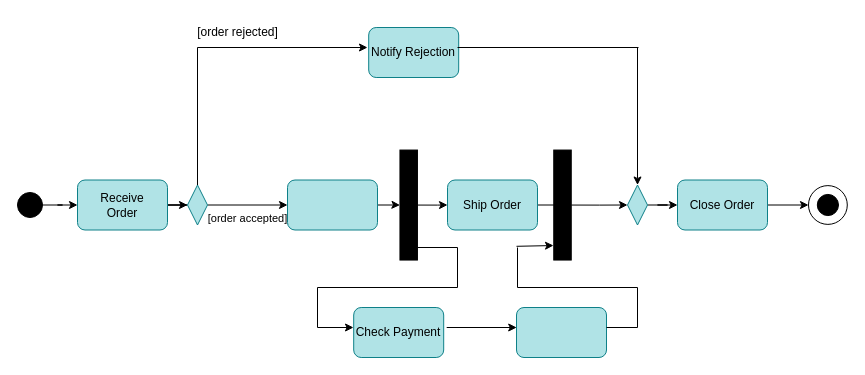
Image size: 865x375. Some labels were removed from this diagram. Each missing label, with the box of its shape:
Pack Items: (286, 179, 378, 230)
Send Invoice: (516, 306, 606, 358)
